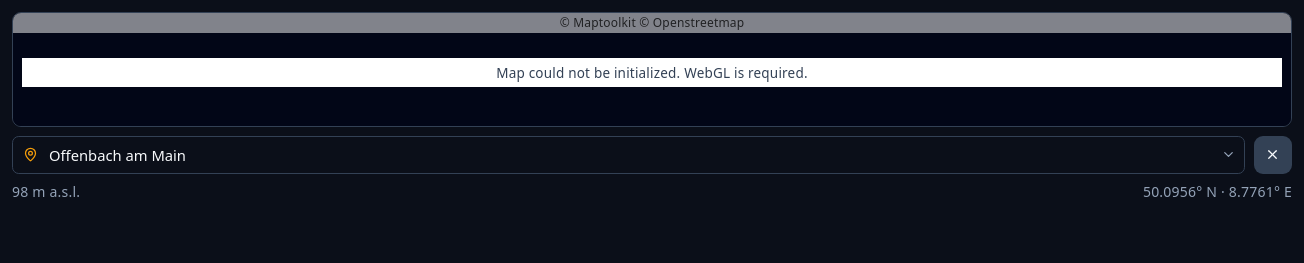
Test case: LocationSelector Component › displays "Elevation unavailable" in suggestion if location has no elevation
The width and height of the screenshot is (1304, 263).
Replace the text in the field with placeholder "Search location..." with "Test": point(628, 155) [12,136,1245,174]
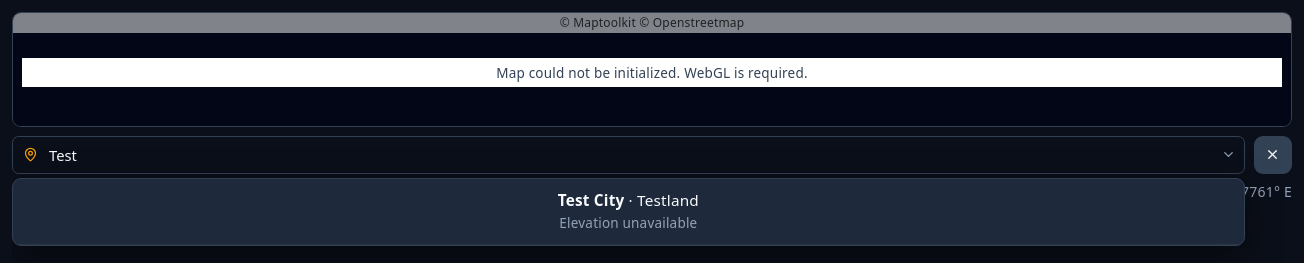
Result: the text "Test City" is shown at [558,190,624,210]
Result: the text "Elevation unavailable" is shown at [559,214,697,232]
